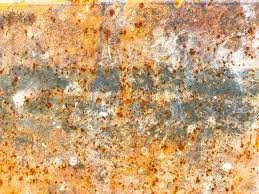rust: (1, 101, 259, 193), (3, 2, 259, 83), (92, 94, 125, 117), (38, 85, 65, 113), (105, 7, 117, 22), (102, 24, 111, 43), (131, 21, 147, 28)
